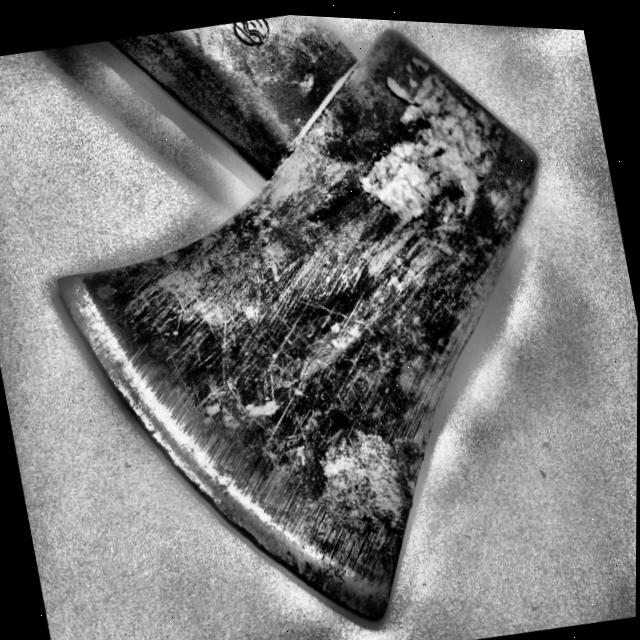kapak: (45, 15, 551, 626)
